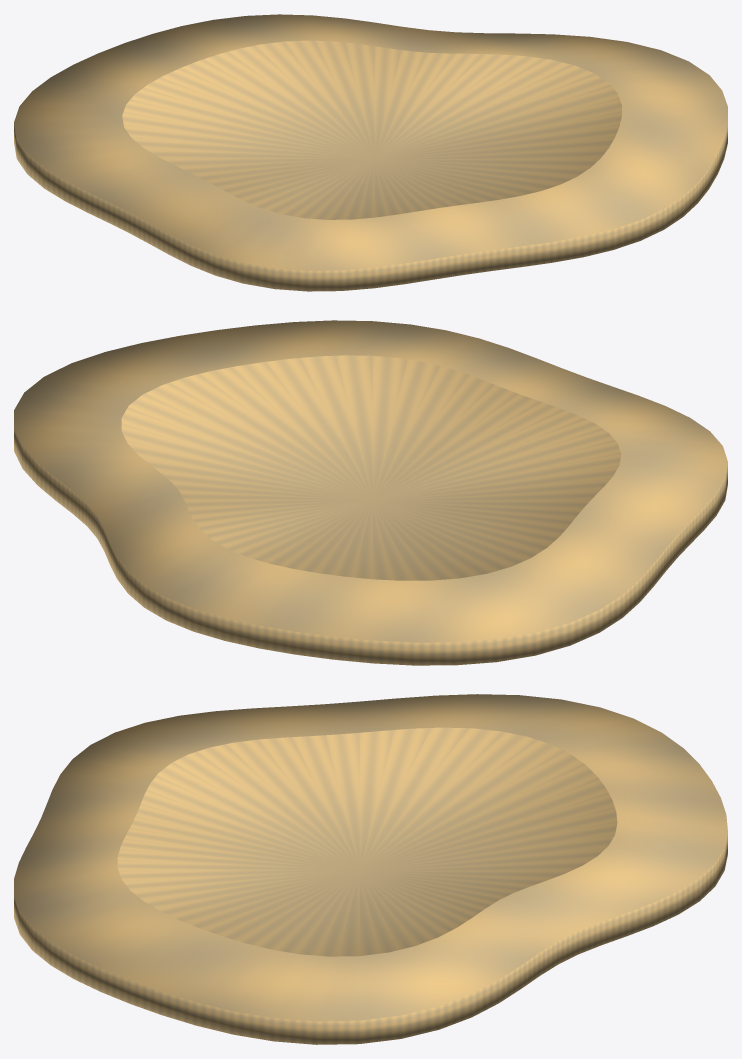
The model's file is ISL-S_LOD0_Beach.fbx.
3 renders of one model, top to bottom at view 1: azimuth 30°, elevation 25°; view 2: azimuth 150°, elevation 25°; view 3: azimuth 270°, elevation 25°, orthographic. The views are drawn at different scales.
Parts seen in each view (by area): view 1: ISL-S_LOD0_Beach; view 2: ISL-S_LOD0_Beach; view 3: ISL-S_LOD0_Beach.
Part boxes in pixels (bbox=[...]): ISL-S_LOD0_Beach: bbox=[14, 14, 727, 291]; ISL-S_LOD0_Beach: bbox=[14, 320, 727, 665]; ISL-S_LOD0_Beach: bbox=[14, 694, 727, 1044].
Size of the model in its own units: 44.87 by 41.38 by 2.3.
